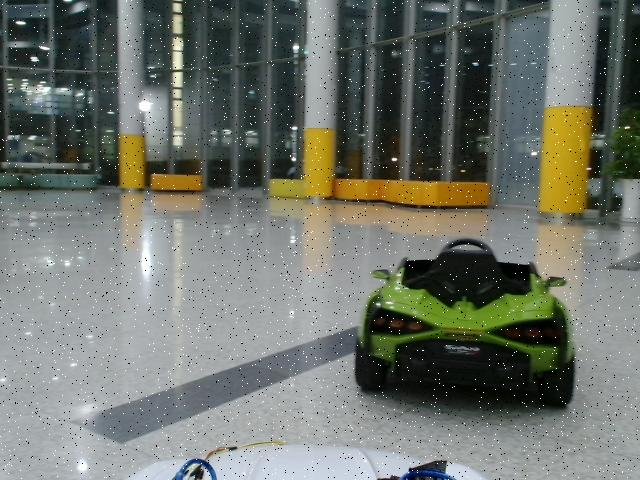car: (356, 239, 576, 409)
